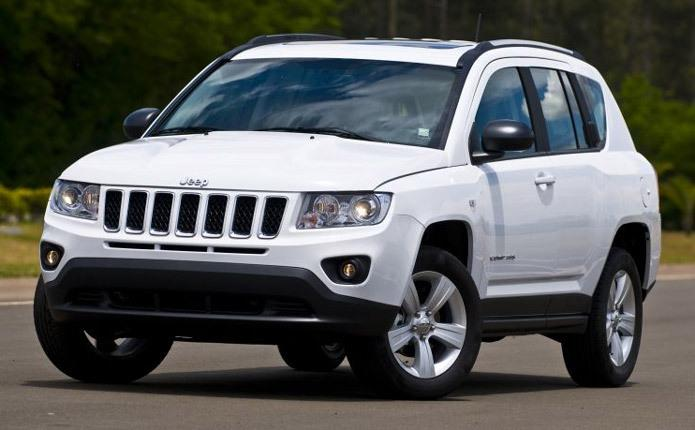jeep: (169, 171, 224, 197)
